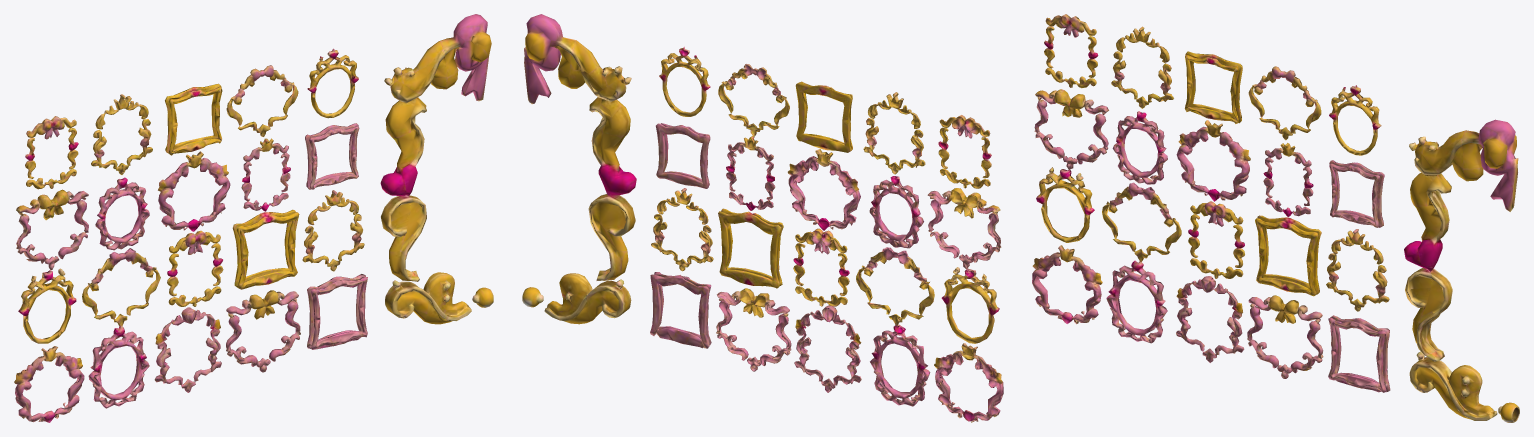
The picture shows the model from 3 angles, left to right: view 1: azimuth 30°, elevation 25°; view 2: azimuth 150°, elevation 25°; view 3: azimuth 330°, elevation 25°; orthographic projection.
Parts seen in each view (by area): view 1: model_part35, model_part8, model_part36, model_part1, model_part29, model_part13, model_part0, model_part14, model_part12, model_part10, model_part23, model_part20 (+15 smaller); view 2: model_part35, model_part8, model_part36, model_part1, model_part29, model_part13, model_part0, model_part14, model_part22, model_part12, model_part10, model_part28 (+14 smaller); view 3: model_part35, model_part8, model_part36, model_part1, model_part29, model_part13, model_part0, model_part14, model_part12, model_part10, model_part23, model_part20 (+15 smaller).
Boxes of the visible parts, x1,y1,x2,y2 form: model_part35: (380,14,491,281); model_part8: (82,248,160,408); model_part36: (385,272,471,324); model_part1: (16,214,76,343); model_part29: (307,274,367,349); model_part13: (158,151,230,231); model_part0: (14,346,84,422); model_part14: (165,83,222,155); model_part12: (154,307,221,392); model_part10: (95,177,149,250); model_part23: (236,212,299,289); model_part20: (226,65,298,136); model_part35: (524,14,636,280); model_part8: (856,247,934,406); model_part36: (544,273,631,324); model_part1: (941,212,1001,343); model_part29: (650,272,711,348); model_part13: (787,149,860,230); model_part0: (934,343,1003,422); model_part14: (795,81,852,152); model_part22: (718,211,781,288); model_part12: (794,305,861,392); model_part10: (869,176,923,248); model_part28: (655,123,710,188); model_part35: (1404,119,1518,361); model_part8: (1102,182,1181,343); model_part36: (1409,351,1497,420); model_part1: (1034,99,1094,242); model_part29: (1328,315,1390,392); model_part13: (1176,120,1250,201); model_part0: (1032,245,1102,324); model_part14: (1184,51,1242,123); model_part12: (1176,276,1244,362); model_part10: (1112,111,1167,184); model_part23: (1255,218,1318,296); model_part20: (1248,66,1321,140).
Size of the model in its own units: 1.91 by 1.21 by 0.1384.
Materials: 1 (1 with a texture image).
